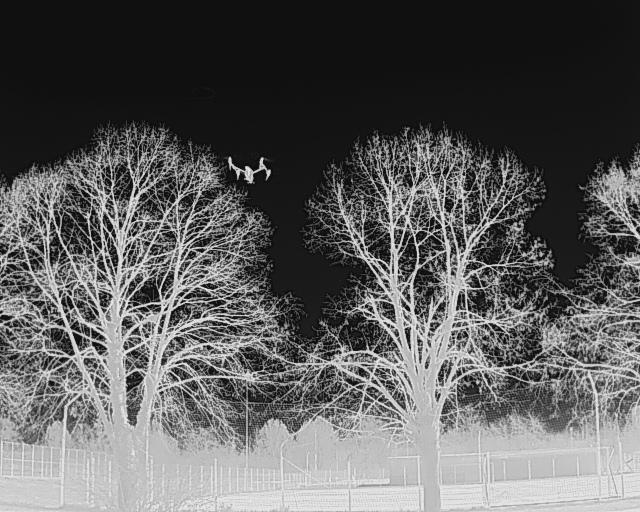drone: (220, 151, 278, 197)
